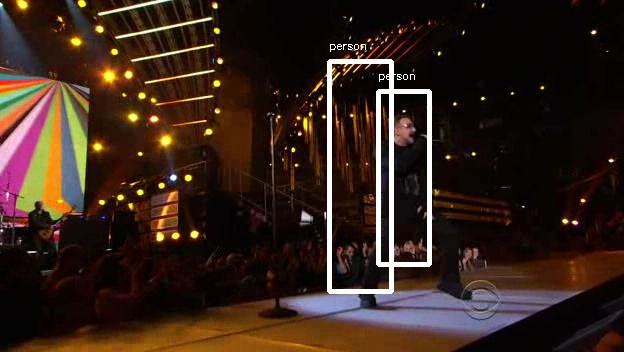person: (373, 115, 441, 238), (370, 115, 438, 238), (376, 115, 444, 238), (373, 112, 441, 235), (373, 118, 441, 241)
target_negative: (6, 71, 236, 276), (574, 139, 622, 270), (509, 79, 551, 205), (505, 163, 552, 221), (556, 103, 586, 191), (447, 100, 477, 103)
